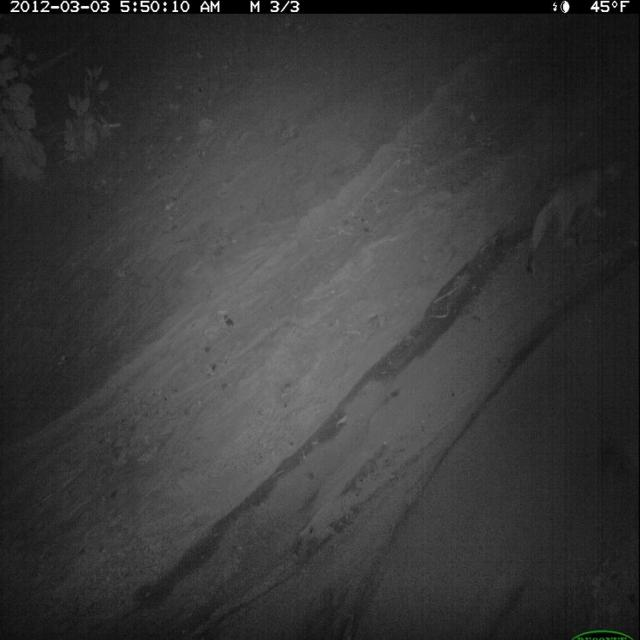bobcat: (522, 158, 629, 286)
